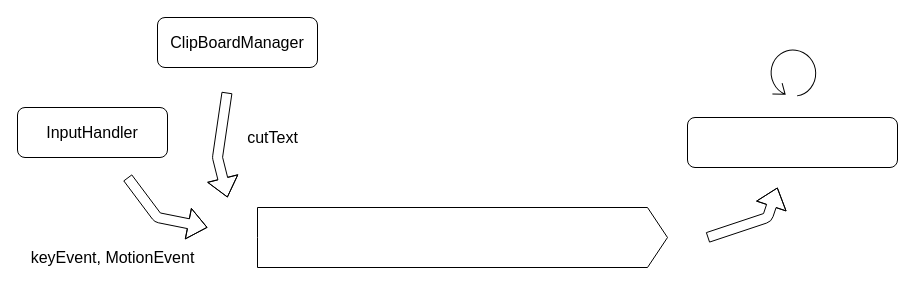
Some shapes in this 915 by 285 pixel diagram are drawn without their labels. The box of each missing label's shape, as (x1, y1, x2, y2) in pixels:
ClientToServerThread: (686, 116, 898, 168)
ConcurrentLinkedQueue<OutputEvent>: (256, 206, 668, 268)
